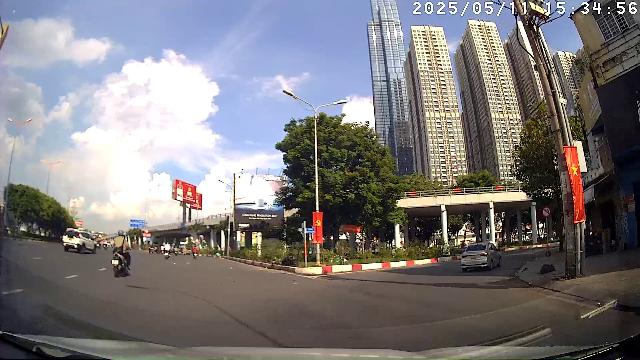123a-cam-re-trai: (542, 206, 552, 216)
